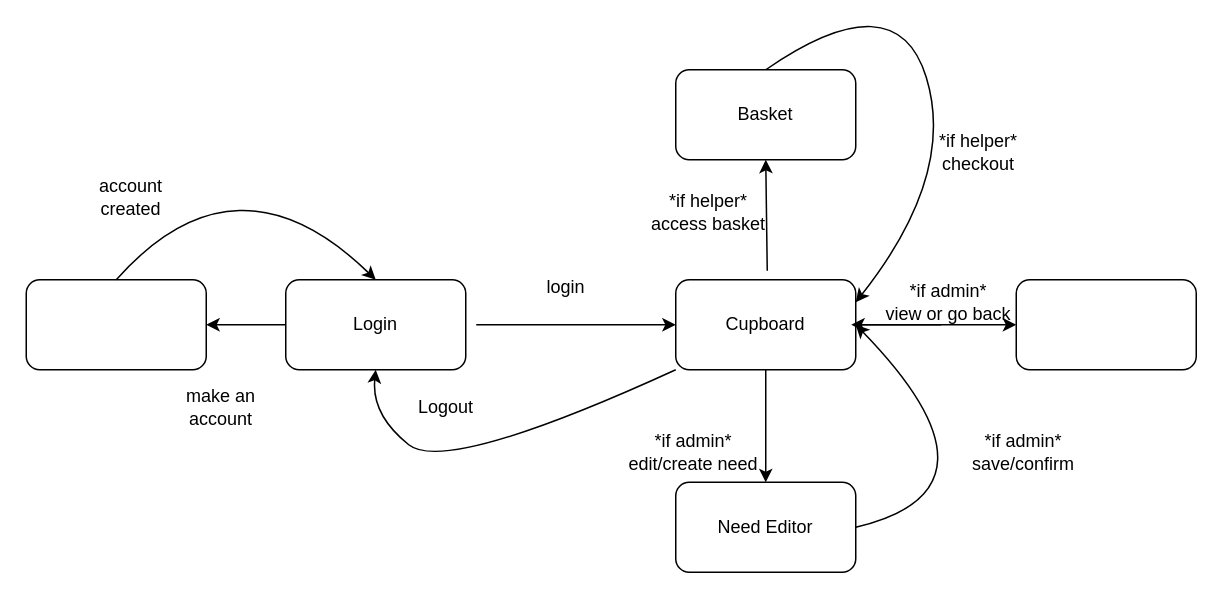
The diagram is 1223 pixels wide and 599 high, and some of its shapes have lost their labels. Here are the shapes that lost their labels. From the top down, the centre of each, then its label:
At point 115,324: "Create Account".
At point 1105,324: "Admin Dashboard".
